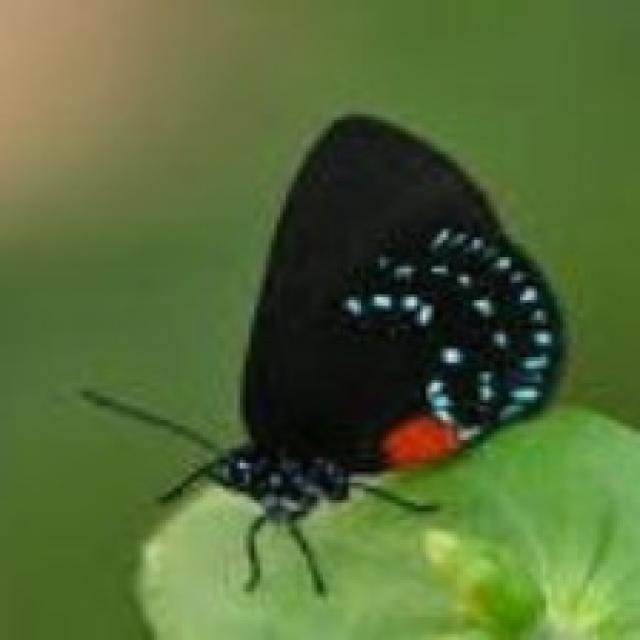butterfly: (74, 109, 569, 597)
